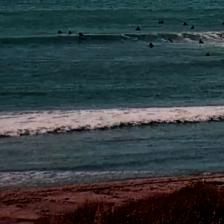surfer: (56, 30, 64, 35), (148, 42, 154, 48), (135, 26, 141, 32), (78, 32, 85, 37), (158, 20, 164, 25), (68, 30, 73, 36), (205, 53, 211, 57), (198, 40, 204, 44), (168, 39, 174, 43), (182, 22, 188, 26), (191, 26, 196, 30), (222, 20, 223, 26)
